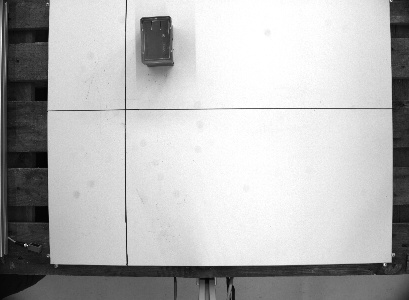kltxs: (138, 12, 176, 70)
